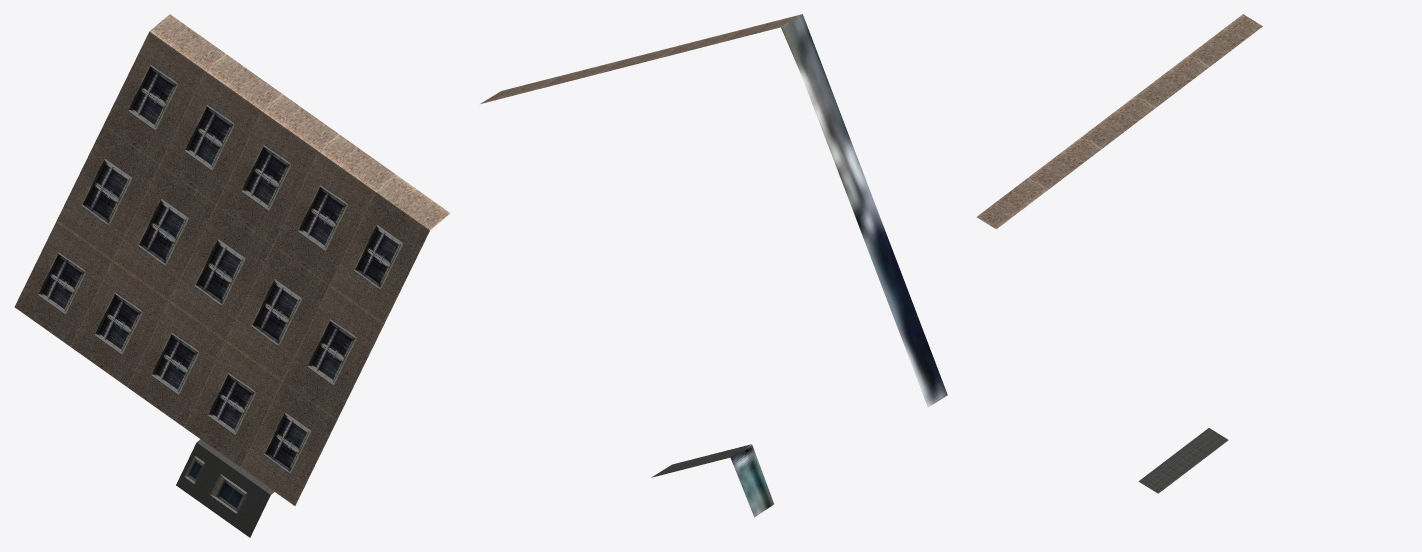
3 renders of one model, left to right at view 1: azimuth 30°, elevation 25°; view 2: azimuth 210°, elevation 25°; view 3: azimuth 270°, elevation 25°, orthographic. The views are drawn at different scales.
Bounding box in the file's own units: 13.27 × 26.43 × 21.28.
Materials: 4 (4 with a texture image).
